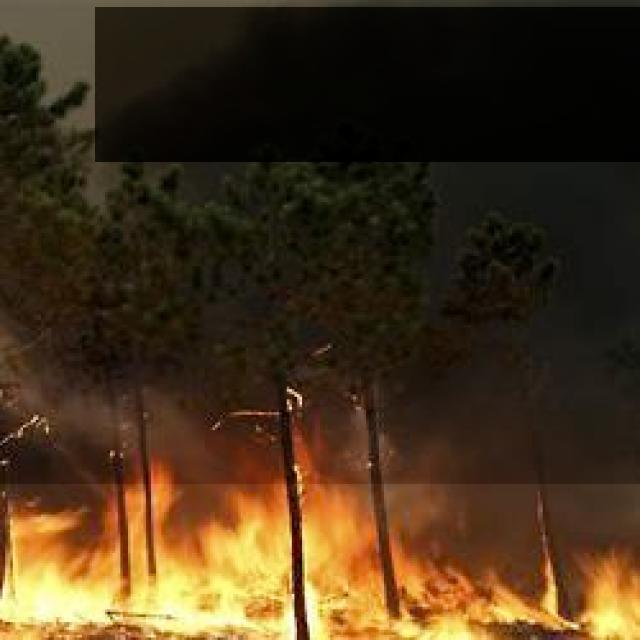Fire: (0, 484, 640, 640)
Smoke: (95, 7, 640, 162)
